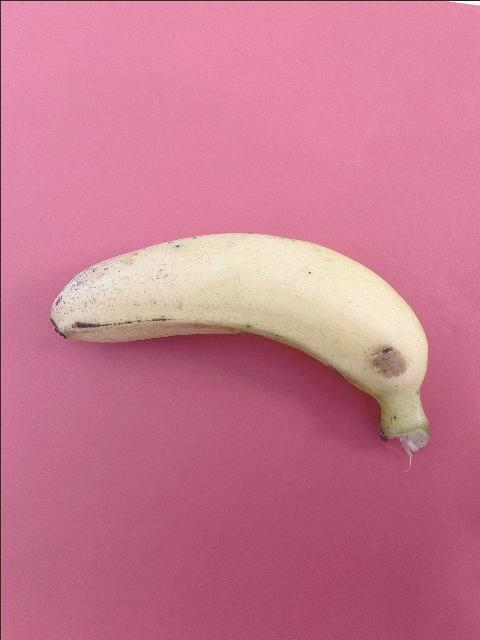banana: (50, 230, 426, 446)
